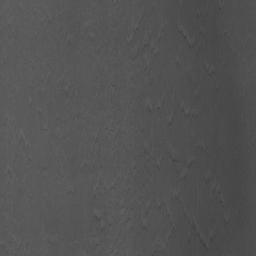Silk spot: (129, 44, 150, 60), (154, 202, 170, 217), (62, 88, 80, 99), (93, 215, 101, 225)
